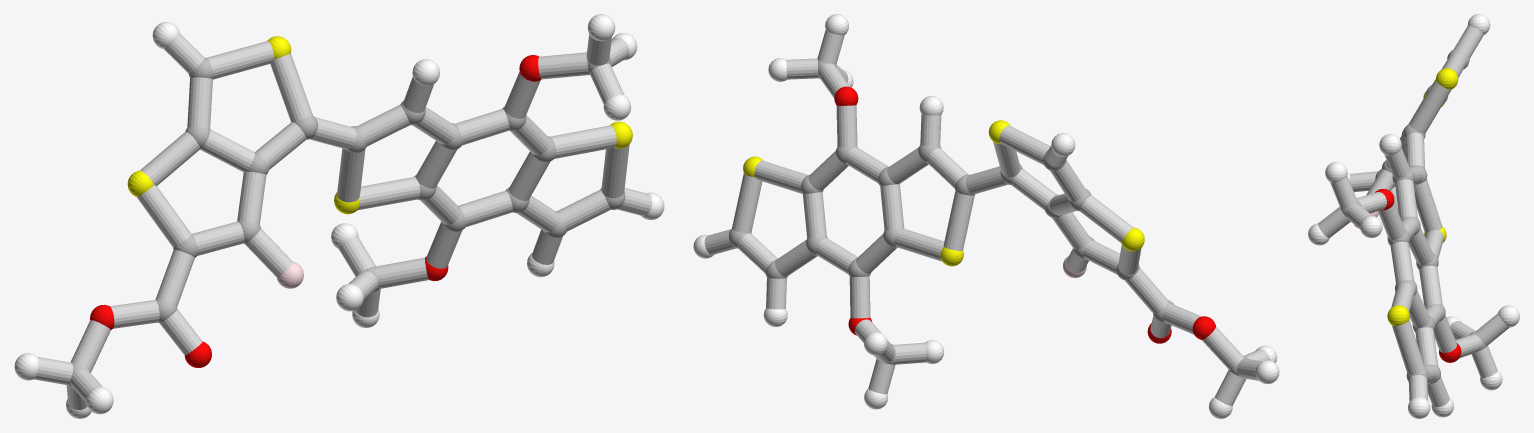
Rendered from color.glb.
The picture shows the model from 3 angles, left to right: view 1: azimuth 30°, elevation 25°; view 2: azimuth 150°, elevation 25°; view 3: azimuth 270°, elevation 25°; orthographic projection. The views are drawn at different scales.
Parts seen in each view (by area): view 1: grp15205, grp8689, grp1, grp13395, grp7241; view 2: grp15205, grp8689, grp1, grp7241, grp13395; view 3: grp15205, grp8689, grp1, grp7241, grp13395.
Boxes of the visible parts, left/top/right/bottom form: grp15205: left=34, top=33, right=652, bottom=409; grp8689: left=14, top=14, right=664, bottom=418; grp1: left=68, top=57, right=625, bottom=387; grp13395: left=90, top=55, right=541, bottom=367; grp7241: left=127, top=36, right=632, bottom=214; grp15205: left=704, top=30, right=1269, bottom=405; grp8689: left=693, top=14, right=1279, bottom=418; grp1: left=729, top=60, right=1248, bottom=376; grp7241: left=743, top=120, right=1144, bottom=266; grp13395: left=834, top=86, right=1215, bottom=343; grp15205: left=1318, top=25, right=1509, bottom=406; grp8689: left=1308, top=14, right=1519, bottom=418; grp1: left=1340, top=49, right=1486, bottom=384; grp7241: left=1387, top=68, right=1458, bottom=325; grp13395: left=1354, top=189, right=1461, bottom=362.
Bounding box in the file's own units: 16.48 × 8.61 × 5.66.
